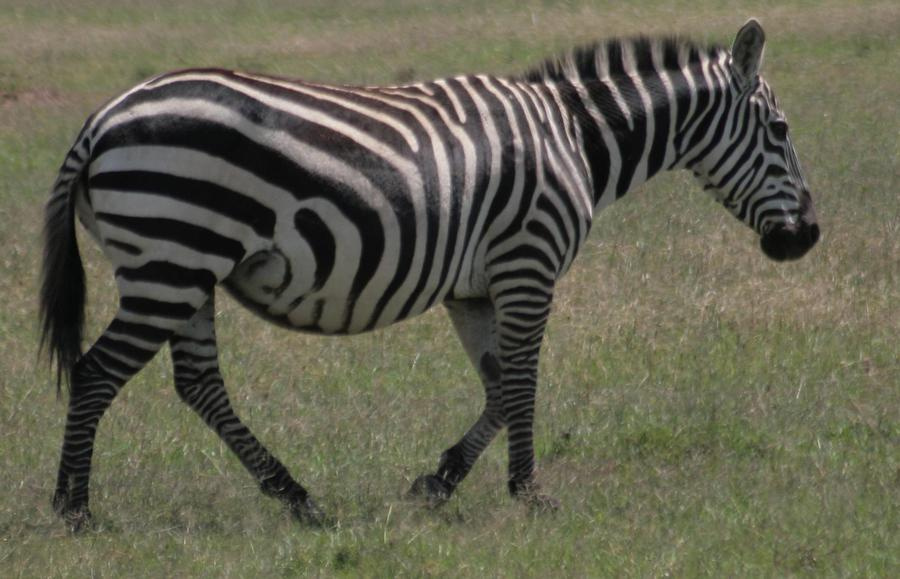zebra_plains: (71, 49, 606, 327)
